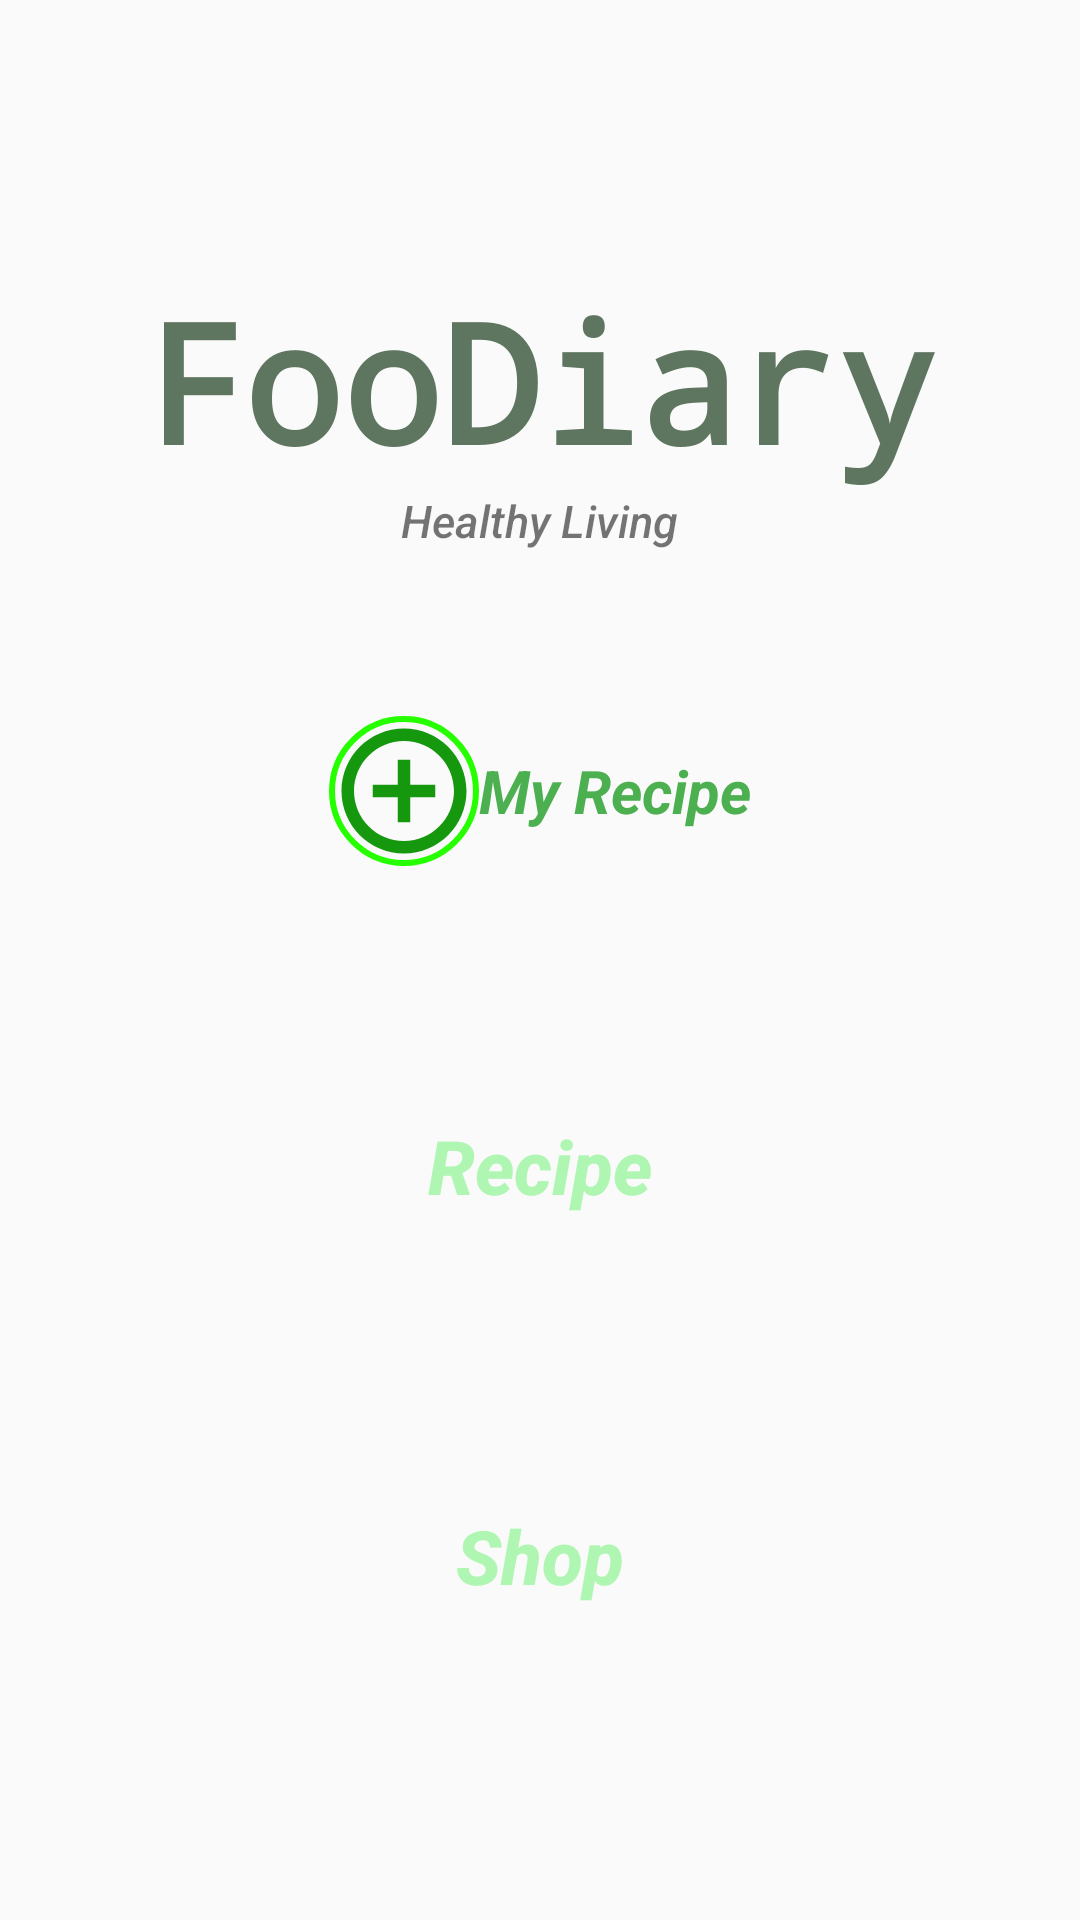

Where to tap for icons on this 1080px×1920px app screen, as point (x, y):
add circle: point (404, 791)
